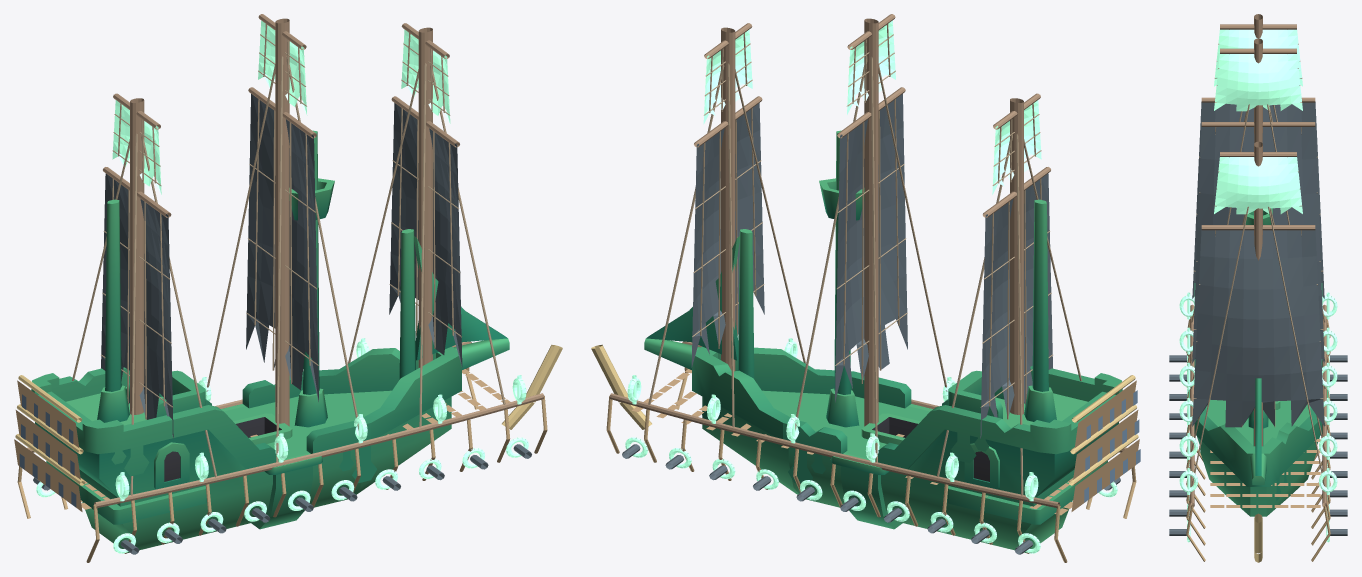
The model's file is flying_dutchman-custom.glb.
3 views of the same model, side by side, from view 1: azimuth 30°, elevation 25°; view 2: azimuth 150°, elevation 25°; view 3: azimuth 270°, elevation 25° (orthographic). The views are drawn at different scales.
Parts seen in each view (by area): view 1: flying_dutchman-custom-geometry, ship-ghost; view 2: flying_dutchman-custom-geometry, ship-ghost; view 3: flying_dutchman-custom-geometry, ship-ghost.
Boxes of the visible parts, bbox=[...] form: flying_dutchman-custom-geometry: bbox=[14, 14, 562, 562]; ship-ghost: bbox=[31, 130, 509, 552]; flying_dutchman-custom-geometry: bbox=[591, 14, 1140, 562]; ship-ghost: bbox=[644, 130, 1122, 552]; flying_dutchman-custom-geometry: bbox=[1169, 14, 1347, 562]; ship-ghost: bbox=[1188, 208, 1328, 516].
Bounding box in the file's own units: 42.52 × 38 × 14.
Materials: 9 (1 with a texture image).
